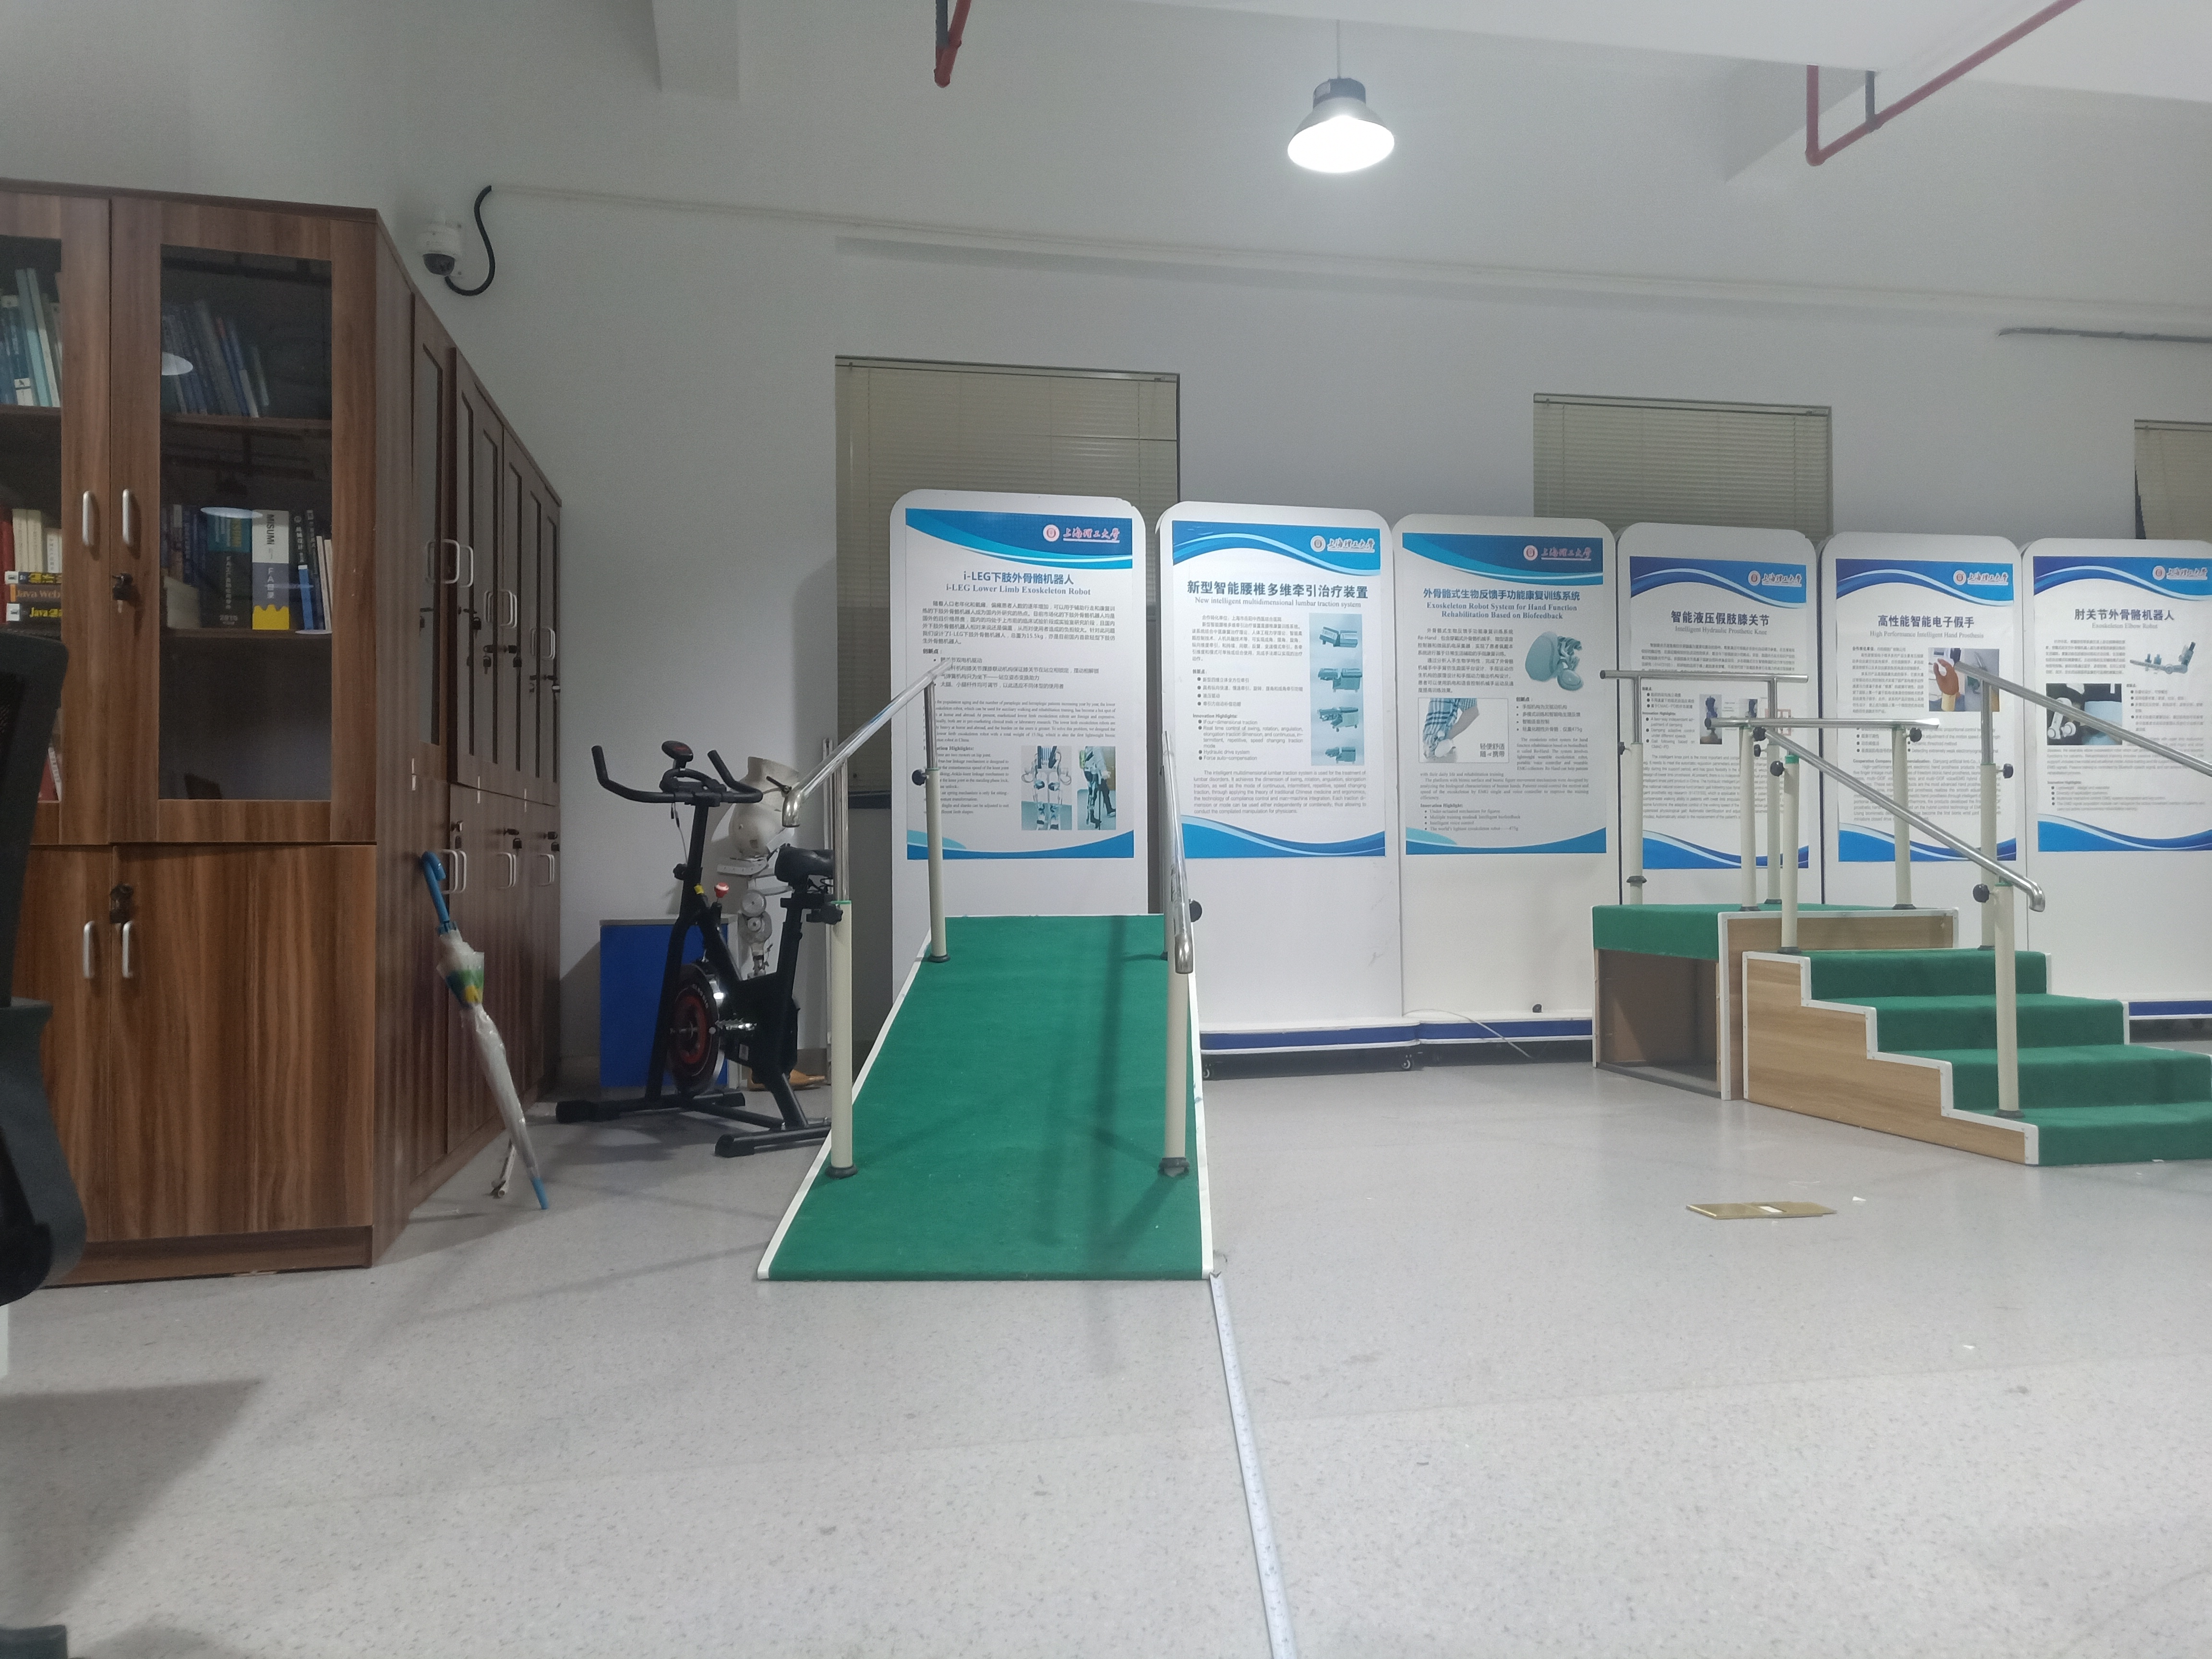ramps: (747, 910, 1214, 1283)
stairs: (1740, 938, 2207, 1164)
